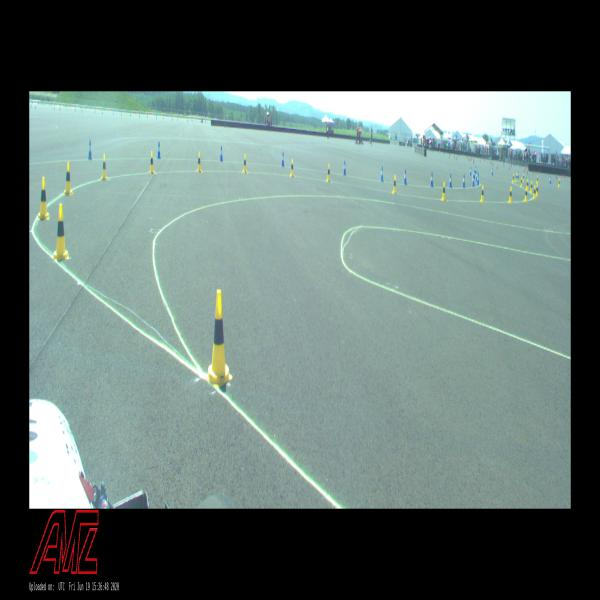blue_cone: (88, 140, 92, 159), (380, 166, 384, 182), (157, 142, 161, 158), (281, 152, 285, 166), (343, 160, 346, 176), (404, 169, 407, 184), (220, 146, 223, 161), (430, 172, 433, 187), (449, 174, 452, 187), (462, 174, 465, 187), (477, 172, 479, 185), (472, 175, 474, 186), (475, 171, 477, 181), (491, 167, 493, 175), (473, 170, 475, 178), (549, 176, 551, 183), (470, 166, 471, 176), (475, 166, 476, 173), (518, 171, 518, 178)
unknown_cone: (556, 174, 558, 178), (473, 159, 474, 164)
yellow_cone: (206, 290, 232, 387), (54, 203, 68, 259), (38, 178, 49, 219), (64, 162, 73, 195), (101, 154, 107, 181), (150, 152, 154, 173), (242, 154, 246, 173), (197, 153, 201, 172), (392, 175, 396, 193), (290, 159, 294, 176), (524, 186, 528, 202), (442, 182, 445, 200), (327, 164, 330, 181), (481, 185, 484, 202), (509, 187, 512, 202), (533, 186, 536, 198), (526, 178, 529, 189), (536, 185, 538, 196), (530, 182, 532, 192), (520, 176, 522, 186), (536, 175, 538, 184), (558, 178, 560, 186), (515, 173, 517, 181), (513, 173, 514, 182), (523, 174, 524, 182)
